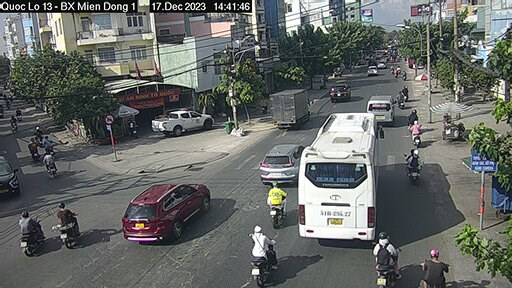bus: (304, 113, 377, 242)
car: (123, 181, 211, 243), (151, 109, 212, 139), (263, 143, 299, 182), (368, 92, 397, 125), (329, 82, 352, 101), (368, 63, 378, 77)
motorbike: (244, 228, 279, 288), (265, 185, 293, 230), (51, 200, 80, 243), (17, 213, 45, 255), (375, 237, 398, 285), (406, 150, 421, 181)
